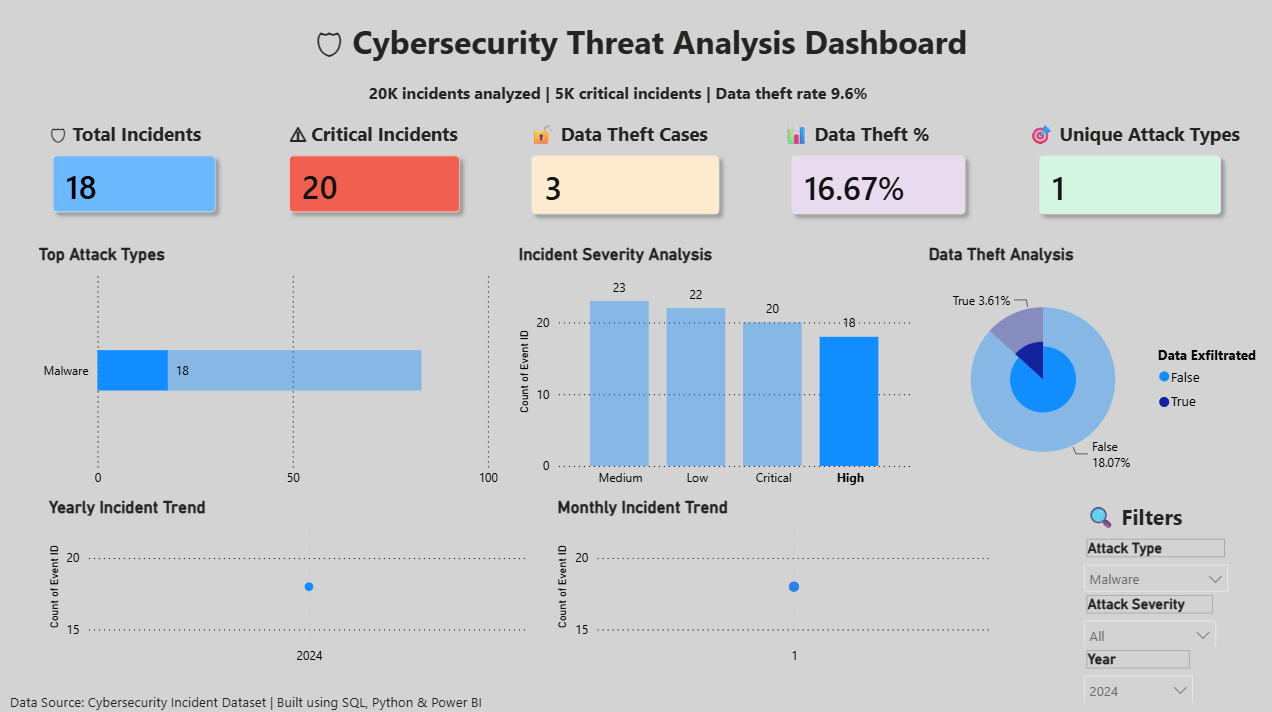

This screenshot's page, from the dashboard's own definition file:
{"tool":"powerbi","page":{"name":"Page 1","canvas":[1280,720],"ordinal":0},"visuals":[{"type":"textbox","box":[9.8,15.9,1270.5,69.7],"z":0},{"type":"cardVisual","fields":{"Data":["cybersecurity_cleaned.Data Theft Cases"]},"box":[507.9,127.9,246.1,117],"z":1000},{"type":"clusteredBarChart","title":"Top Attack Types","fields":{"Category":["cybersecurity_cleaned.Attack Type"],"Y":["CountNonNull(cybersecurity_cleaned.Event ID)"]},"box":[38.6,244.9,469.3,252.1],"z":2000},{"type":"clusteredColumnChart","title":"Incident Severity Analysis","fields":{"Category":["cybersecurity_cleaned.Attack Severity"],"Y":["CountNonNull(cybersecurity_cleaned.Event ID)"]},"box":[518.8,244.9,403,252.1],"z":3000},{"type":"lineChart","title":"Yearly Incident Trend","fields":{"Y":["CountNonNull(cybersecurity_cleaned.Event ID)"],"Category":["cybersecurity_cleaned.Year"]},"box":[48.8,497.5,490,177.5],"z":4000},{"type":"lineChart","title":"Monthly Incident Trend","fields":{"Category":["cybersecurity_cleaned.Month"],"Y":["CountNonNull(cybersecurity_cleaned.Event ID)"]},"box":[557.5,497.5,442.5,177.5],"z":5000},{"type":"slicer","fields":{"Values":["cybersecurity_cleaned.Attack Type"]},"box":[1078.6,534.5,164.1,71.2],"z":6000},{"type":"slicer","fields":{"Values":["cybersecurity_cleaned.Attack Severity"]},"box":[1078.6,591.2,152,55.5],"z":7000},{"type":"slicer","fields":{"Values":["cybersecurity_cleaned.Year"]},"box":[1078.6,646.7,129.1,56.7],"z":8000},{"type":"pieChart","title":"Data Theft Analysis","fields":{"Category":["cybersecurity_cleaned.Data Exfiltrated"],"Y":["CountNonNull(cybersecurity_cleaned.Event ID)"]},"box":[929,244.9,351.1,252.1],"z":9000},{"type":"cardVisual","fields":{"Data":["cybersecurity_cleaned.total incidents"]},"box":[29,127.9,222,115.8],"z":10000},{"type":"textbox","box":[48.3,117,202.7,36.2],"z":11000},{"type":"cardVisual","fields":{"Data":["cybersecurity_cleaned.Critical Incidents"]},"box":[264.8,127.9,229.2,115.8],"z":12000},{"type":"textbox","box":[289.5,117,229.2,41],"z":13000},{"type":"textbox","box":[529.6,117,201.5,42.2],"z":14000},{"type":"textbox","box":[784.2,117,203.9,47.1],"z":15000},{"type":"textbox","box":[1029.1,117,229.2,39.8],"z":16000},{"type":"cardVisual","fields":{"Data":["cybersecurity_cleaned.Data theft %"]},"box":[767.9,127.9,232.8,117],"z":17000},{"type":"cardVisual","fields":{"Data":["cybersecurity_cleaned.Unique Attack Types"]},"box":[1014.6,127.9,240.1,117],"z":18000},{"type":"textbox","box":[1085.8,497.1,114.6,48.3],"z":19000},{"type":"textbox","box":[369.2,77.2,539.3,86.9],"z":20000},{"type":"textbox","box":[10,688.8,530,27.5],"z":21000}]}

Visuals, with their boxes in screenshot pixels (x1, y1, x2, y2), scaled from the page's 1280x720 canvas onto the 1272x712 screenshot:
textbox: box(10, 16, 1271, 85)
cardVisual - cybersecurity_cleaned.Data Theft Cases: box(505, 126, 749, 242)
"Top Attack Types" clusteredBarChart: box(38, 242, 505, 491)
"Incident Severity Analysis" clusteredColumnChart: box(516, 242, 916, 491)
"Yearly Incident Trend" lineChart: box(48, 492, 535, 668)
"Monthly Incident Trend" lineChart: box(554, 492, 994, 668)
slicer - cybersecurity_cleaned.Attack Type: box(1072, 529, 1235, 599)
slicer - cybersecurity_cleaned.Attack Severity: box(1072, 585, 1223, 640)
slicer - cybersecurity_cleaned.Year: box(1072, 640, 1200, 696)
"Data Theft Analysis" pieChart: box(923, 242, 1271, 491)
cardVisual - cybersecurity_cleaned.total incidents: box(29, 126, 249, 241)
textbox: box(48, 116, 249, 151)
cardVisual - cybersecurity_cleaned.Critical Incidents: box(263, 126, 491, 241)
textbox: box(288, 116, 515, 156)
textbox: box(526, 116, 727, 157)
textbox: box(779, 116, 982, 162)
textbox: box(1023, 116, 1250, 155)
cardVisual - cybersecurity_cleaned.Data theft %: box(763, 126, 994, 242)
cardVisual - cybersecurity_cleaned.Unique Attack Types: box(1008, 126, 1247, 242)
textbox: box(1079, 492, 1193, 539)
textbox: box(367, 76, 903, 162)
textbox: box(10, 681, 537, 708)
